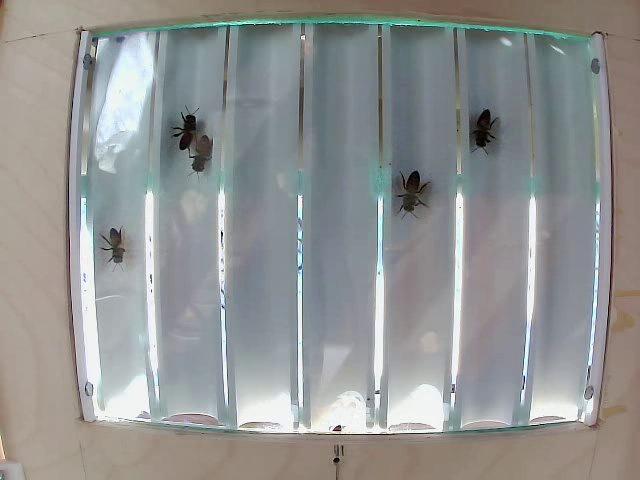bee: (388, 161, 433, 211), (187, 137, 229, 186), (464, 100, 502, 154), (98, 223, 136, 269), (168, 108, 206, 146)
